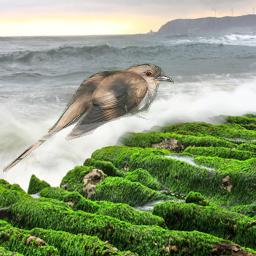Cuckoo: (3, 63, 174, 173)
